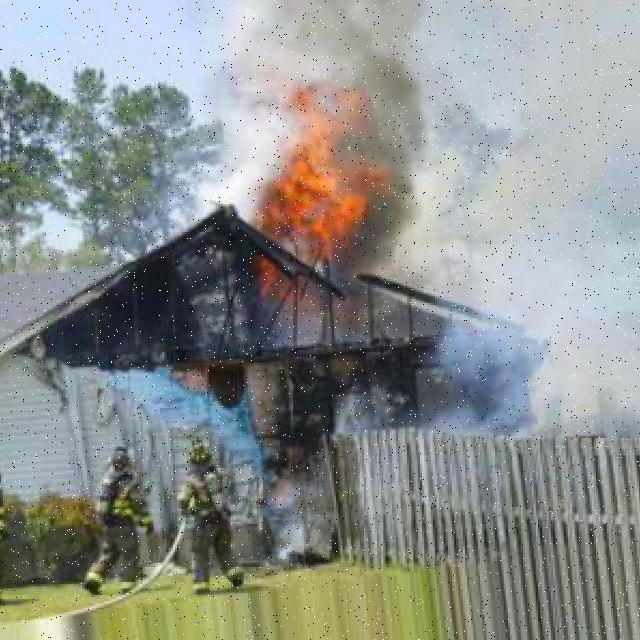fire: (246, 127, 368, 279)
smoke: (340, 0, 435, 275), (332, 324, 456, 438), (263, 462, 336, 573)
